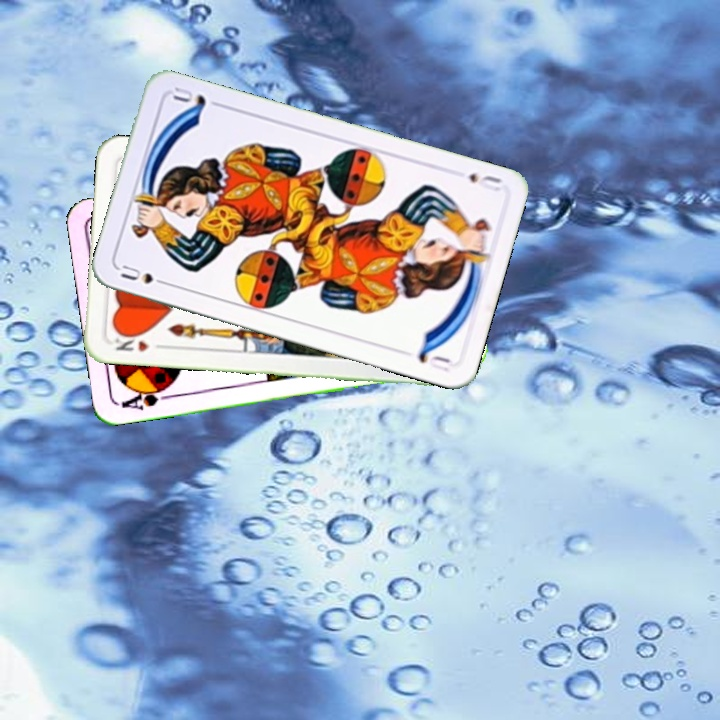HK: (110, 328, 167, 355)
SA: (117, 382, 176, 413)
SU: (117, 260, 173, 289), (465, 169, 505, 194)
